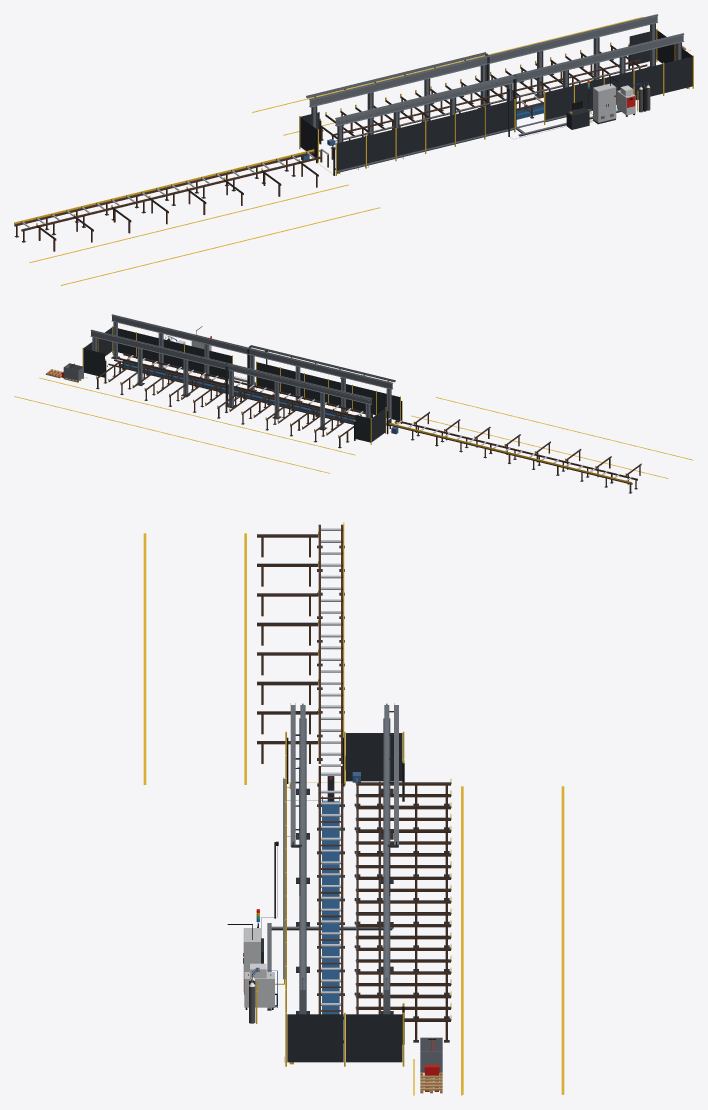
The model's file is cell_20m.glb.
3 renders of one model, top to bottom at view 1: azimuth 30°, elevation 25°; view 2: azimuth 150°, elevation 25°; view 3: azimuth 270°, elevation 25°, orthographic. The views are drawn at different scales.
Visible parts, largest first — view 1: runway_back, runway_front, infeed_rail, fence_mesh_11, fence_mesh, fence_mesh_2, fence_mesh_4, fence_mesh_5, fence_mesh_3, fence_mesh_6, infeed_rail_2, fence_mesh_7 (+13 smaller); view 2: runway_front, runway_back, infeed_chain_guard, infeed_rail, bed_rail_2, scrap_tray_side_2, fence_mesh_13, bed_rail, crane_rail_front, crane_rail_back, outfeed_frame_2, outfeed_frame (+19 smaller); view 3: fence_mesh_15, fence_mesh_16, scrap_tray_floor, fence_mesh_14, runway_front, runway_back, floor_marking_2, floor_marking_4, floor_marking.
Part boxes in pixels (x1,y1,x2,y2): runway_back: (309,15,658,107); runway_front: (335,34,684,126); infeed_rail: (21,156,321,231); fence_mesh_11: (664,56,692,93); fence_mesh: (337,136,365,172); fence_mesh_2: (367,129,395,165); fence_mesh_4: (426,114,454,151); fence_mesh_5: (456,107,484,143); fence_mesh_3: (396,122,424,158); fence_mesh_6: (485,100,514,136); infeed_rail_2: (14,151,314,226); fence_mesh_7: (545,85,573,122); runway_front: (111,315,392,389); runway_back: (90,330,371,404); infeed_chain_guard: (389,423,631,483); infeed_rail: (395,420,637,480); bed_rail_2: (117,357,355,416); scrap_tray_side_2: (118,364,354,423); fence_mesh_13: (83,348,104,377); bed_rail: (123,353,371,414); crane_rail_front: (112,314,392,383); crane_rail_back: (91,329,371,398); outfeed_frame_2: (108,363,353,424); outfeed_frame: (114,359,355,419); fence_mesh_15: (287,1014,343,1062); fence_mesh_16: (346,1014,402,1062); scrap_tray_floor: (323,801,338,1014); fence_mesh_14: (346,733,402,781); runway_front: (300,705,305,990); runway_back: (384,705,389,990); floor_marking_2: (561,786,564,1094); floor_marking_4: (143,533,146,784); floor_marking: (461,786,463,1094).
Bounding box in the file's own units: 47.6 × 3.38 × 15.05.
